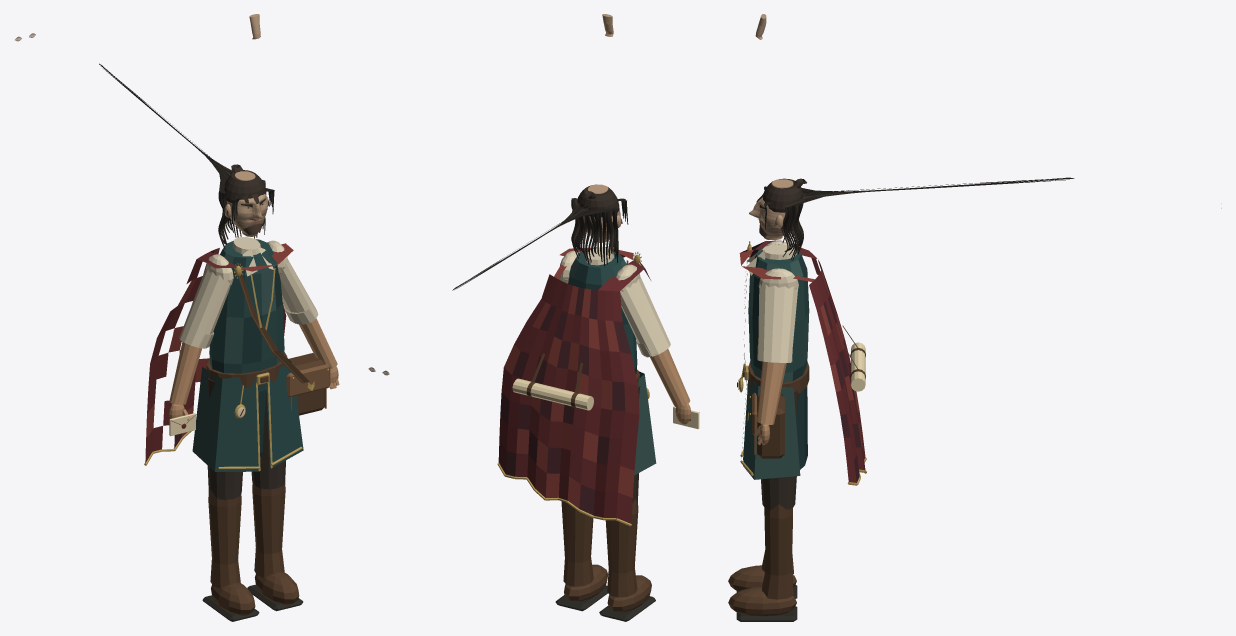
File: courier.glb
3 renders of one model, left to right at view 1: azimuth 30°, elevation 25°; view 2: azimuth 150°, elevation 25°; view 3: azimuth 270°, elevation 25°, orthographic.
Visible parts, largest first — view 1: Waistcoat, Split_coat_R, Cloak_folds, Boot_shaft_R, Boot_shaft_L, Split_coat_L, Linen_sleeve_R, Forearm_R, Trouser_thigh_L, Linen_sleeve_L, Face, Boot_toe_R (+9 smaller); view 2: Cloak_folds, Boot_shaft_R, Boot_shaft_L, Linen_sleeve_R, Waistcoat, Split_coat_R, Map_roll, Forearm_R, Boot_toe_L, Boot_toe_R, Hair_target_top, Boot_sole_R (+1 smaller); view 3: Cloak_folds, Waistcoat, Linen_sleeve_L, Boot_shaft_L, Split_coat_L, Boot_toe_L, Forearm_L, Trouser_thigh_L, Messenger_satchel, Face, Hair_target_top, Back_coat (+1 smaller).
Part boxes in pixels (x1,y1,x2,y2): Waistcoat: (209,239,284,392); Split_coat_R: (192,367,258,471); Cloak_folds: (145,243,293,463); Boot_shaft_R: (208,490,241,588); Boot_shaft_L: (252,481,285,577); Split_coat_L: (266,358,303,468); Linen_sleeve_R: (179,267,231,348); Forearm_R: (169,342,201,404); Trouser_thigh_L: (251,392,285,489); Linen_sleeve_L: (279,258,318,324); Face: (227,171,267,236); Boot_toe_R: (211,582,255,615); Cloak_folds: (498,247,650,523); Boot_shaft_R: (605,499,638,597); Boot_shaft_L: (561,501,593,586); Linen_sleeve_R: (620,276,670,357); Waistcoat: (568,249,637,374); Split_coat_R: (634,371,656,475); Map_roll: (512,378,593,410); Forearm_R: (650,348,690,407); Boot_toe_L: (564,564,608,601); Boot_toe_R: (607,575,651,612); Hair_target_top: (577,185,619,217); Boot_sole_R: (599,596,655,621); Cloak_folds: (739,240,865,482); Waistcoat: (748,244,809,382); Linen_sleeve_L: (758,284,798,362); Boot_shaft_L: (762,504,793,599); Split_coat_L: (743,372,800,479); Boot_toe_L: (728,586,796,616); Forearm_L: (757,361,786,424); Trouser_thigh_L: (761,390,798,509); Messenger_satchel: (757,394,784,458); Face: (749,179,793,240); Hair_target_top: (763,178,802,212); Back_coat: (795,386,807,469).
Size of the model in its own units: 0.7395 by 2.41 by 1.83.
